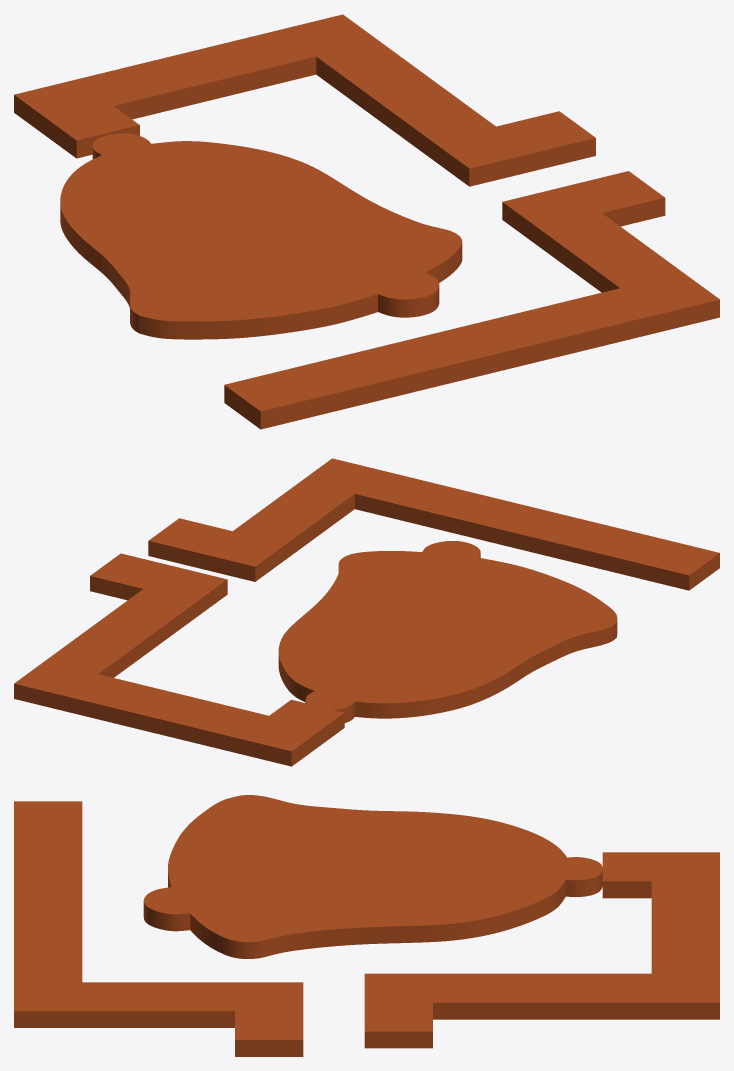
The model's file is bell_welectrode_tiny.glb.
The picture shows the model from 3 angles, top to bottom: view 1: azimuth 30°, elevation 25°; view 2: azimuth 150°, elevation 25°; view 3: azimuth 270°, elevation 25°; orthographic projection. The views are drawn at different scales.
Visible parts, largest first — view 1: bell.001; view 2: bell.001; view 3: bell.001.
Part boxes in pixels (<box>): bell.001: <box>14,14,719,429</box>; bell.001: <box>14,458,719,766</box>; bell.001: <box>14,795,719,1056</box>.
Bounding box in the file's own units: 0.0909 × 0.00451 × 0.1136.
